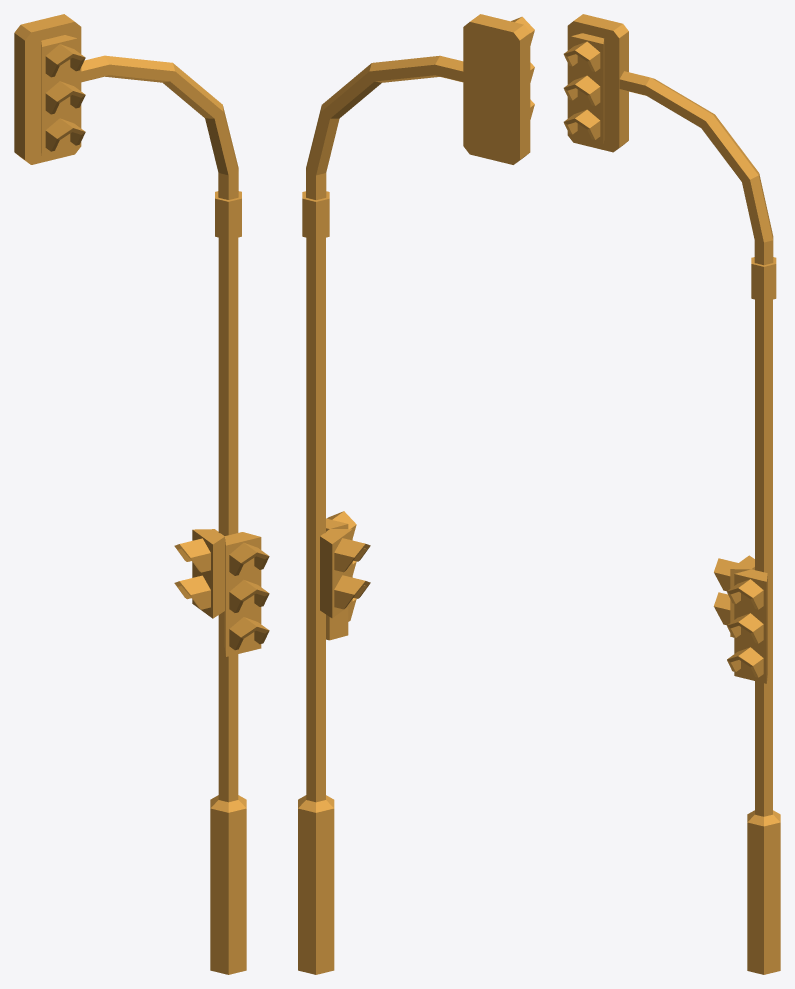
Rendered from traffic-lights.fbx.
3 renders of one model, left to right at view 1: azimuth 30°, elevation 25°; view 2: azimuth 150°, elevation 25°; view 3: azimuth 330°, elevation 25°, orthographic. The views are drawn at different scales.
Visible parts, largest first — view 1: traffic-lights; view 2: traffic-lights; view 3: traffic-lights.
Boxes of the visible parts, x1=… form: traffic-lights: x1=14, y1=14, x2=269, y2=974; traffic-lights: x1=298, y1=14, x2=534, y2=974; traffic-lights: x1=563, y1=14, x2=780, y2=974.
Size of the model in its own units: 2.2 by 9.13 by 0.6424.
